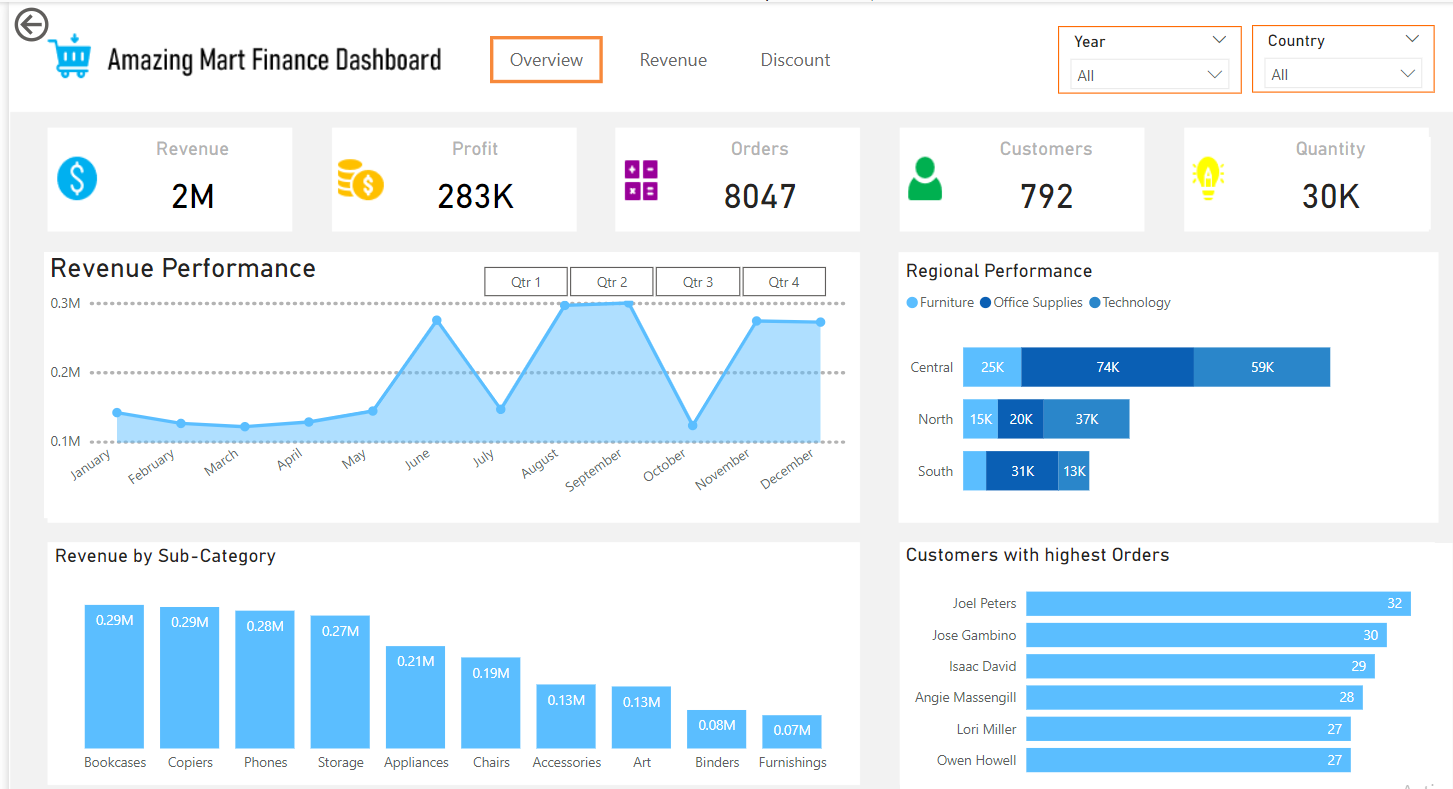

The page's visual inventory and layout, read from the dashboard file:
{"tool":"powerbi","page":{"name":"Overview","canvas":[1280,720],"ordinal":0},"visuals":[{"type":"stackedAreaChart","title":"Revenue Performance","fields":{"Category":["ListOfOrders.Order Date.Variation.Date Hierarchy.Month"],"Y":["OrderBreakdown.Total Sales"],"Series":["ListOfOrders.Order Date.Variation.Date Hierarchy.Year"]},"box":[31.4,222.1,716.3,236],"z":0},{"type":"clusteredColumnChart","title":"Revenue by Sub-Category","fields":{"Y":["OrderBreakdown.Total Sales"],"Category":["OrderBreakdown.Sub-Category"]},"box":[35.7,480.3,717.7,211.3],"z":1000},{"type":"slicer","fields":{"Values":["ListOfOrders.Qtr"]},"box":[395.2,227.8,352.7,37],"z":2000},{"type":"actionButton","box":[0,0,100,40],"z":3000},{"type":"actionButton","box":[426.7,30.2,100,41.9],"z":4000},{"type":"actionButton","box":[539.5,30.2,100,41.9],"z":5000},{"type":"actionButton","box":[647.7,30.2,100,41.9],"z":6000},{"type":"barChart","title":"Customers with highest Orders","fields":{"Category":["ListOfOrders.Customer Name"],"Y":["ListOfOrders.Orders"]},"box":[790,480,490,220],"z":7000},{"type":"cardVisual","fields":{"Data":["OrderBreakdown.Profit"]},"box":[330.7,97.4,175.6,101.5],"z":8000},{"type":"stackedAreaChart","fields":{"Category":["ListOfOrders.Order Date.Variation.Date Hierarchy.Year","ListOfOrders.Order Date.Variation.Date Hierarchy.Month"],"Y":["OrderBreakdown.Profit"]},"box":[330.7,126.2,175.6,78.2],"z":9000},{"type":"stackedAreaChart","fields":{"Category":["ListOfOrders.Order Date.Variation.Date Hierarchy.Year","ListOfOrders.Order Date.Variation.Date Hierarchy.Month"],"Y":["OrderBreakdown.Sales"]},"box":[79.6,122.1,175.6,78.2],"z":10000},{"type":"stackedAreaChart","fields":{"Category":["ListOfOrders.Order Date.Variation.Date Hierarchy.Year","ListOfOrders.Order Date.Variation.Date Hierarchy.Month"],"Y":["ListOfOrders.Customers"]},"box":[834.3,122.1,177,76.8],"z":11000},{"type":"stackedAreaChart","fields":{"Category":["ListOfOrders.Order Date.Variation.Date Hierarchy.Year","ListOfOrders.Order Date.Variation.Date Hierarchy.Month"],"Y":["OrderBreakdown.Quantity"]},"box":[1088.2,120.8,175.6,78.2],"z":12000},{"type":"stackedAreaChart","fields":{"Category":["ListOfOrders.Order Date.Variation.Date Hierarchy.Year","ListOfOrders.Order Date.Variation.Date Hierarchy.Month"],"Y":["ListOfOrders.Orders"]},"box":[558.5,126.2,177,76.8],"z":13000},{"type":"cardVisual","fields":{"Data":["OrderBreakdown.Revenue"]},"box":[79.6,97.4,175.6,101.5],"z":14000},{"type":"cardVisual","fields":{"Data":["ListOfOrders.Orders"]},"box":[572.2,97.4,175.6,101.5],"z":15000},{"type":"cardVisual","fields":{"Data":["ListOfOrders.Customers"]},"box":[834.3,97.4,175.6,101.5],"z":16000},{"type":"cardVisual","fields":{"Data":["OrderBreakdown.Quantity"]},"box":[1088.2,97.4,175.6,101.5],"z":17000},{"type":"textbox","box":[31.6,492.6,358.1,50.8],"z":18000},{"type":"advancedSlicerVisual","fields":{"Values":["ListOfOrders.Order Date.Variation.Date Hierarchy.Year"]},"box":[854.4,12.8,425.6,33.7],"z":19000},{"type":"advancedSlicerVisual","fields":{"Values":["OrderBreakdown.Category"]},"box":[854.4,55.8,425.6,33.7],"z":20000},{"type":"textbox","box":[395.2,480.3,352.7,94.7],"z":21000},{"type":"clusteredBarChart","title":"Top Countries by Revenue","fields":{"Category":["ListOfOrders.Country"],"Y":["OrderBreakdown.Total Sales"]},"box":[790.4,222.3,473.4,236],"z":22000},{"type":"textbox","box":[1080.9,380.8,183.1,77],"z":23000}]}

Visuals, with their boxes on the page's 1280x720 design canvas (x1, y1, x2, y2). These are canvas units, not pixel positions in the 1453x789 screenshot, which may show the page scaled, cropped or inside an application window:
"Revenue Performance" stackedAreaChart: (31, 222, 748, 458)
"Revenue by Sub-Category" clusteredColumnChart: (36, 480, 753, 692)
slicer - ListOfOrders.Qtr: (395, 228, 748, 265)
actionButton: (0, 0, 100, 40)
actionButton: (427, 30, 527, 72)
actionButton: (540, 30, 640, 72)
actionButton: (648, 30, 748, 72)
"Customers with highest Orders" barChart: (790, 480, 1280, 700)
cardVisual - OrderBreakdown.Profit: (331, 97, 506, 199)
stackedAreaChart - ListOfOrders.Order Date.Variation.Date Hierarchy.Year x ListOfOrders.Order Date.Variation.Date Hierarchy.Month: (331, 126, 506, 204)
stackedAreaChart - ListOfOrders.Order Date.Variation.Date Hierarchy.Year x ListOfOrders.Order Date.Variation.Date Hierarchy.Month: (80, 122, 255, 200)
stackedAreaChart - ListOfOrders.Order Date.Variation.Date Hierarchy.Year x ListOfOrders.Order Date.Variation.Date Hierarchy.Month: (834, 122, 1011, 199)
stackedAreaChart - ListOfOrders.Order Date.Variation.Date Hierarchy.Year x ListOfOrders.Order Date.Variation.Date Hierarchy.Month: (1088, 121, 1264, 199)
stackedAreaChart - ListOfOrders.Order Date.Variation.Date Hierarchy.Year x ListOfOrders.Order Date.Variation.Date Hierarchy.Month: (558, 126, 736, 203)
cardVisual - OrderBreakdown.Revenue: (80, 97, 255, 199)
cardVisual - ListOfOrders.Orders: (572, 97, 748, 199)
cardVisual - ListOfOrders.Customers: (834, 97, 1010, 199)
cardVisual - OrderBreakdown.Quantity: (1088, 97, 1264, 199)
textbox: (32, 493, 390, 543)
advancedSlicerVisual - ListOfOrders.Order Date.Variation.Date Hierarchy.Year: (854, 13, 1280, 46)
advancedSlicerVisual - OrderBreakdown.Category: (854, 56, 1280, 90)
textbox: (395, 480, 748, 575)
"Top Countries by Revenue" clusteredBarChart: (790, 222, 1264, 458)
textbox: (1081, 381, 1264, 458)
